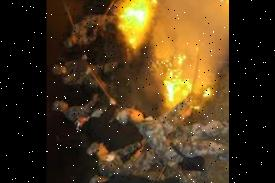fire: (104, 0, 168, 60), (156, 52, 208, 109)
